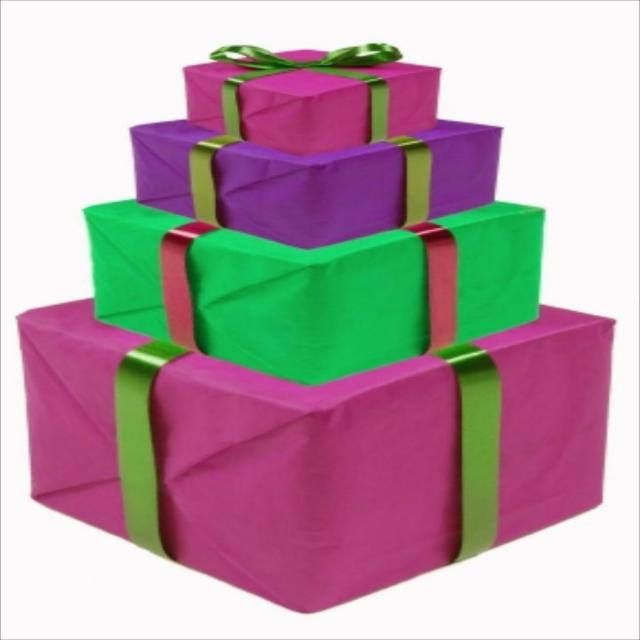Box: (16, 41, 616, 613)
